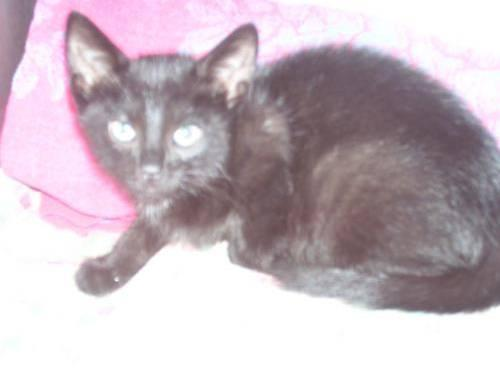cat: (67, 12, 499, 311)
